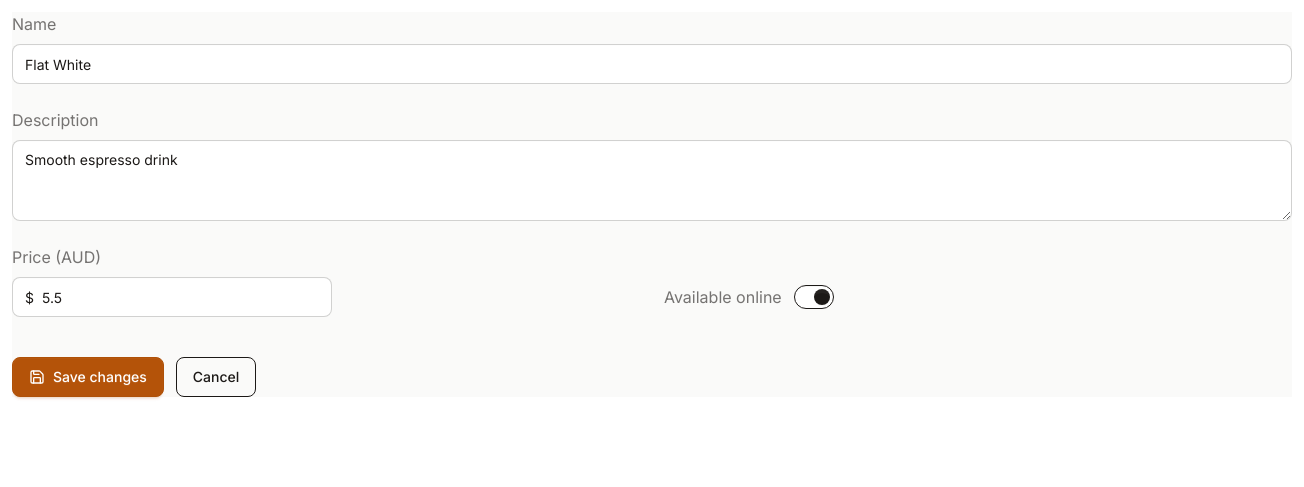
Test: MenuItemEditor › shows network error message on fetch failure
Replace the text in the field showing "Flat White" with "Latte" at coordinates (652, 64), box [12,44,1292,84]
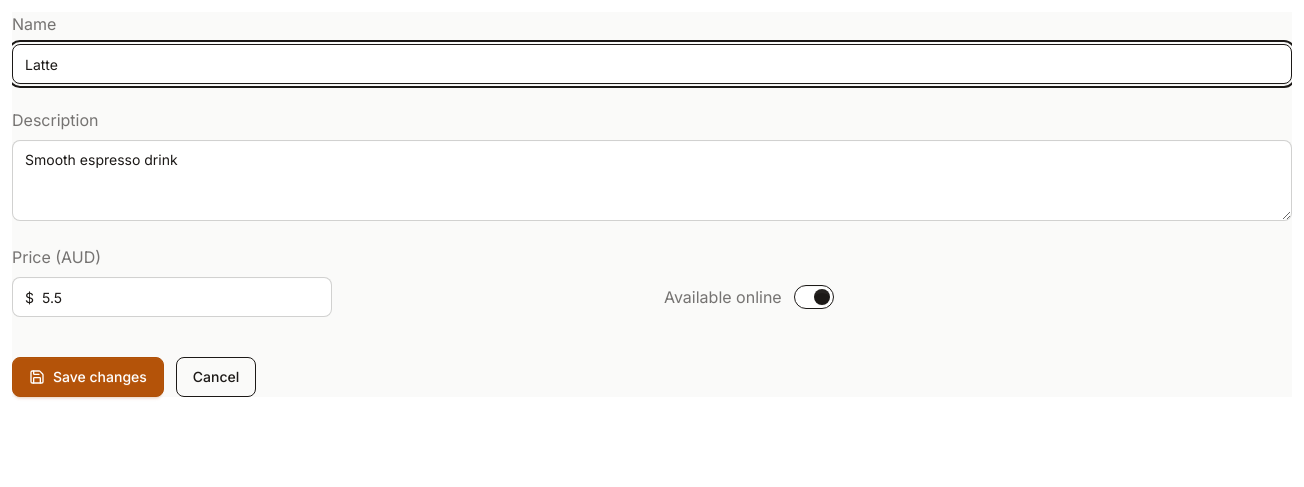
Click the button "Save changes" at coordinates (88, 377), box [12,357,164,397]
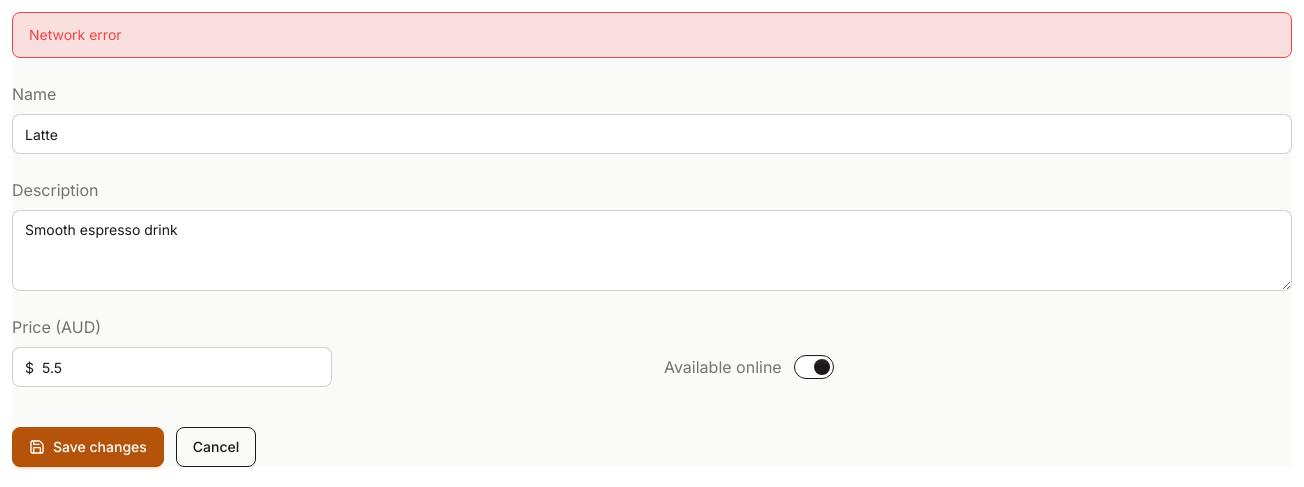
Expected: the text "Network error" is shown, [12,12,1292,58]
